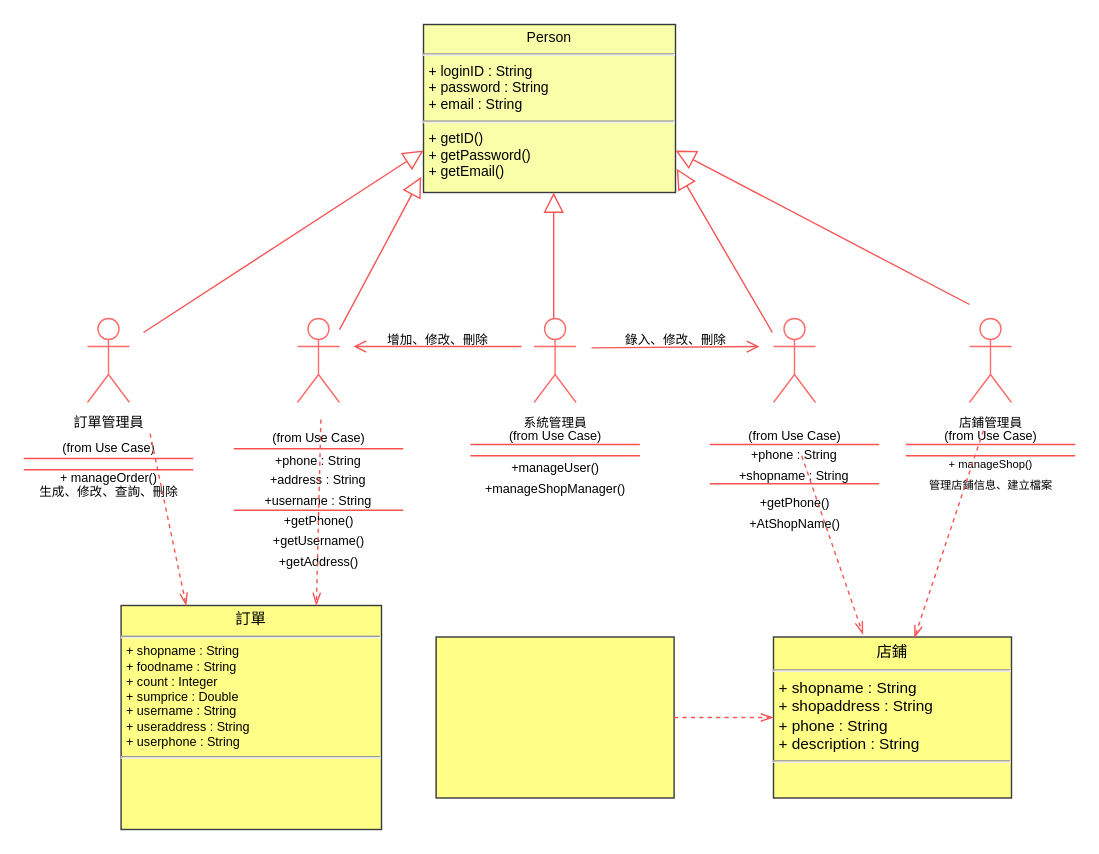
This 1099x854 diagram has some shape labels left out. The centre of each missing label's shape, as x and y in pixels:
商家: point 794,359
訂餐者: point 318,359
餐飲 + foodname : String + foodpicture : Object + price : Double + note : String: point 554,717
